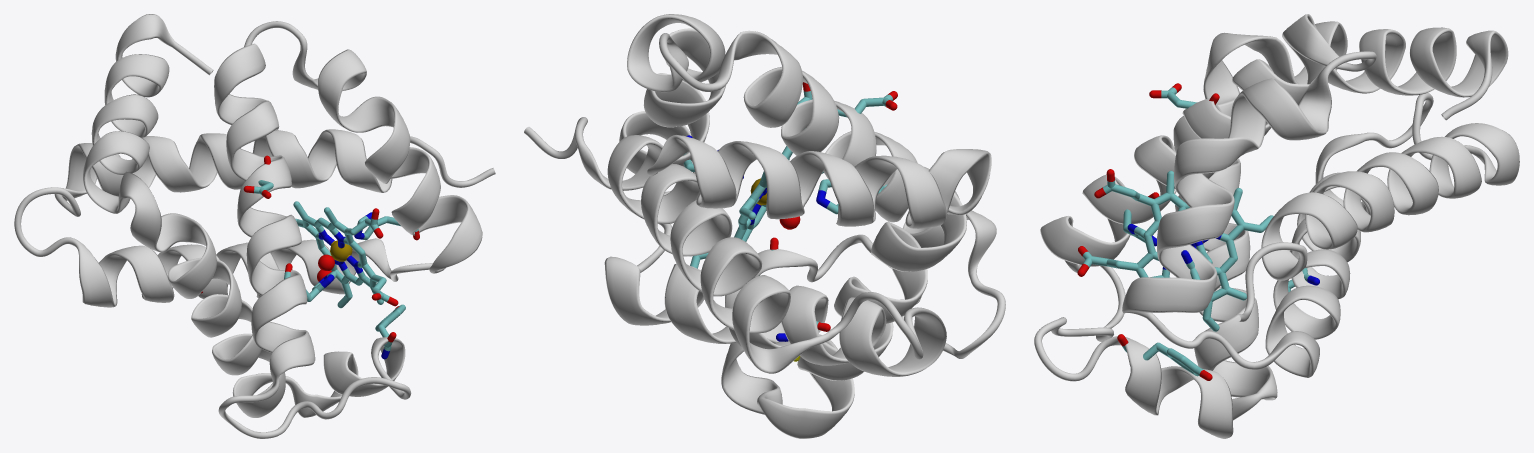
File: frame31.gltf
3 views of the same model, side by side, from view 1: azimuth 30°, elevation 25°; view 2: azimuth 150°, elevation 25°; view 3: azimuth 270°, elevation 25° (orthographic). The views are drawn at different scales.
Visible parts, largest first — view 1: vmd_mol31_rep3, vmd_mol31_rep2, vmd_mol31_rep1; view 2: vmd_mol31_rep3, vmd_mol31_rep1, vmd_mol31_rep2; view 3: vmd_mol31_rep3, vmd_mol31_rep2, vmd_mol31_rep1.
Part boxes in pixels (<box>): vmd_mol31_rep3: <box>14,14,495,438</box>; vmd_mol31_rep2: <box>293,201,398,308</box>; vmd_mol31_rep1: <box>201,155,419,359</box>; vmd_mol31_rep3: <box>524,14,1005,438</box>; vmd_mol31_rep1: <box>683,91,897,361</box>; vmd_mol31_rep2: <box>734,82,823,241</box>; vmd_mol31_rep3: <box>1034,14,1519,438</box>; vmd_mol31_rep2: <box>1077,169,1273,331</box>; vmd_mol31_rep1: <box>1117,83,1319,380</box>.
Bounding box in the file's own units: 1.41 × 1.17 × 1.28.
